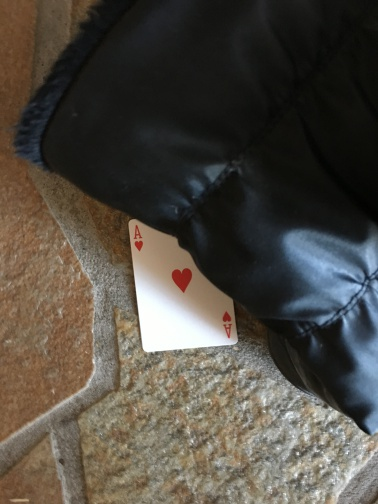ace: (127, 214, 240, 352)
